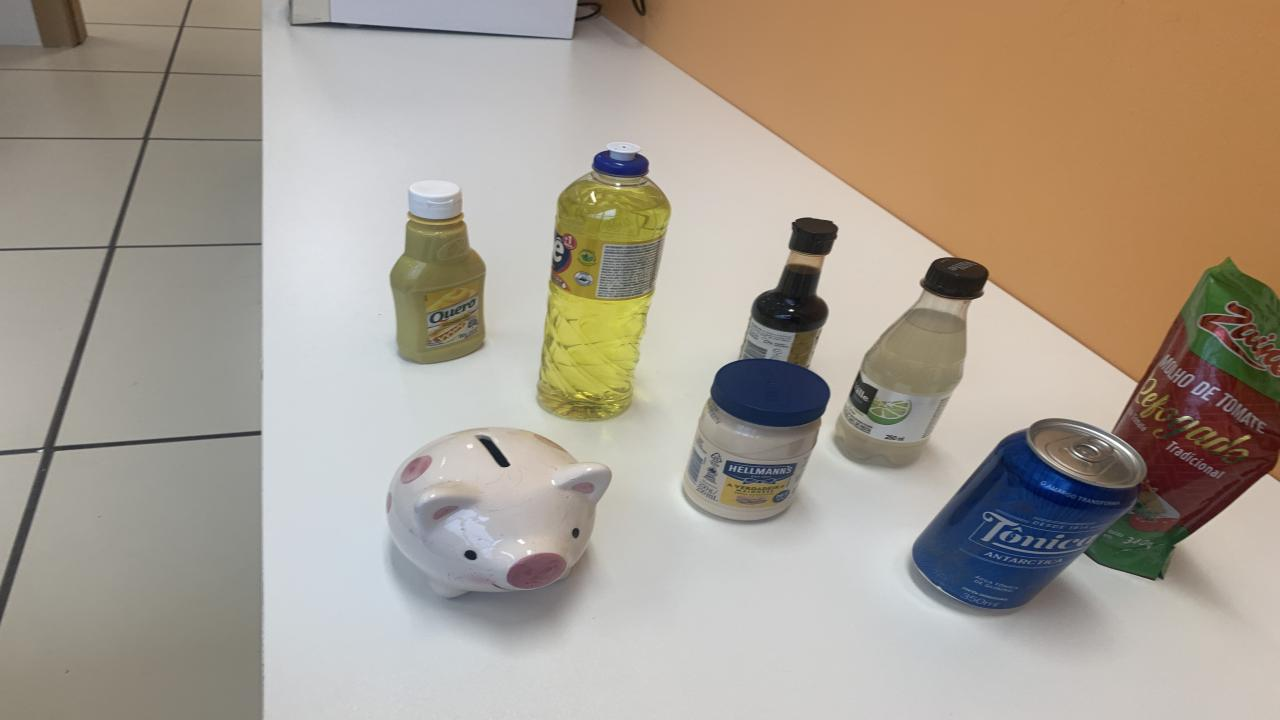Detergent-Cleanup_Items: (538, 142, 670, 420)
English_Sauce-Pantry_Items: (740, 218, 838, 368)
Mayonnaise-Pantry_Items: (682, 358, 830, 519)
Mustard-Pantry_Items: (390, 180, 485, 364)
Pig_Safe-Miscellaneous: (385, 428, 612, 598)
Soda-Drinks: (835, 257, 988, 465)
Tomato_Sauce-Pantry_Items: (1088, 259, 1280, 578)
Tonic-Drinks: (912, 418, 1148, 609)
